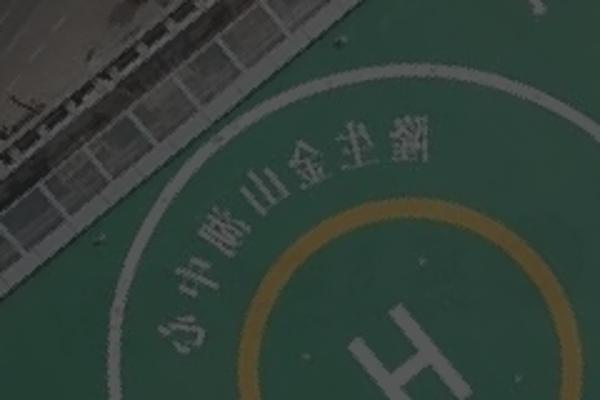Apron: (233, 192, 585, 400)
